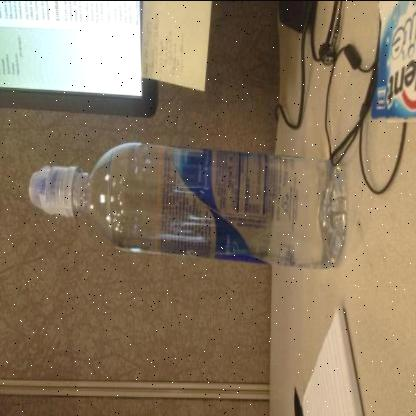Plastic Bottle: (29, 141, 347, 267)
